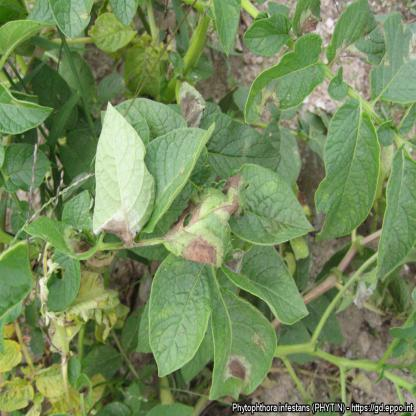Potato leaf early blight: (161, 173, 277, 268), (87, 95, 154, 247), (241, 32, 330, 125), (210, 288, 279, 399), (26, 213, 100, 262), (176, 81, 206, 128)
